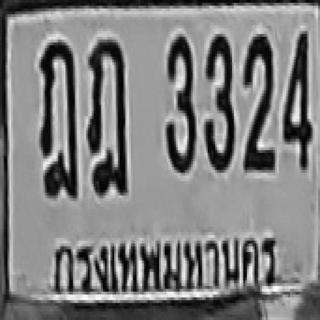A14: (37, 38, 77, 197), (86, 37, 125, 193)
N02: (242, 33, 274, 171)
N03: (164, 34, 196, 173), (204, 33, 234, 171)
N04: (282, 30, 312, 168)
P04: (43, 221, 280, 303)
